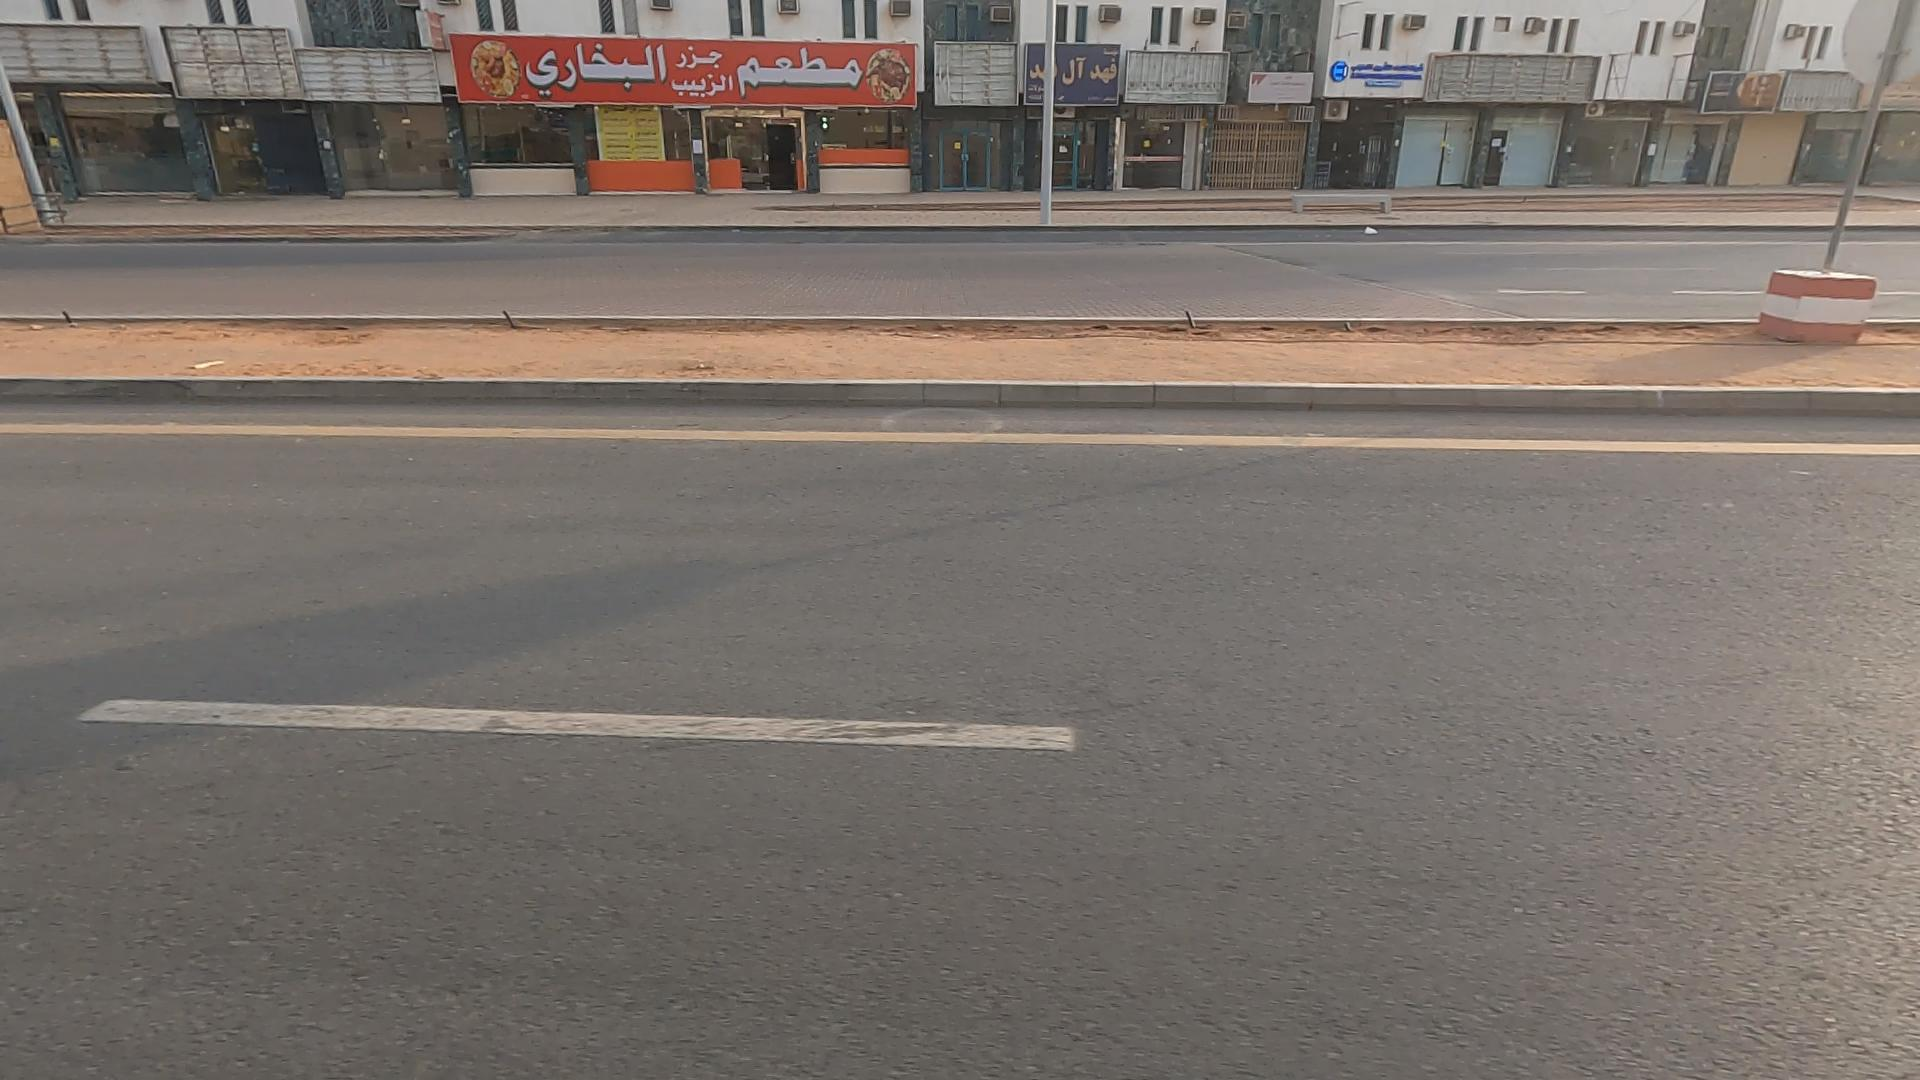BAD_BILLBOARD: (800, 3, 1202, 154)
